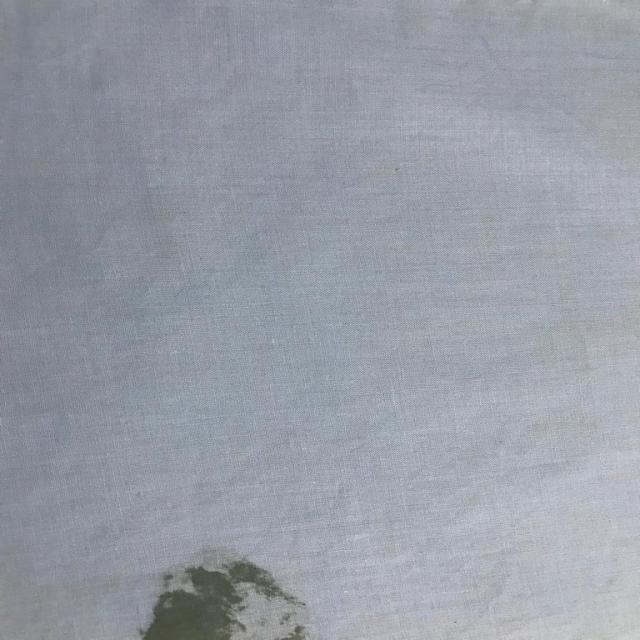Stain: (141, 552, 312, 640)
